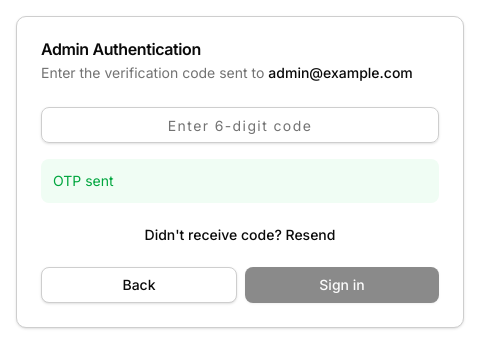
Test: EventOTPEntryPage › US2 — Manual resend › T015: rate limit error from resend is displayed inline
Click the button "Didn't receive code? Resend" at (240, 235), box [132,219,347,251]
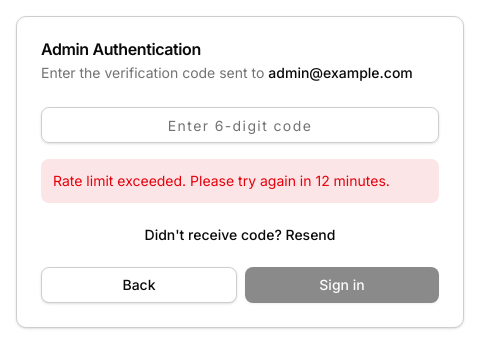
Expected: the text "Rate limit exceeded. Please try again in 12 minutes." is shown, [41,159,439,203]
